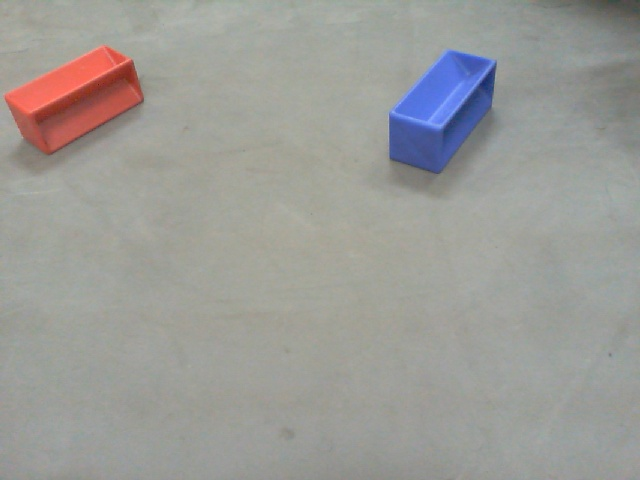BlueSample: (381, 46, 501, 178)
RedSample: (2, 41, 146, 159)
